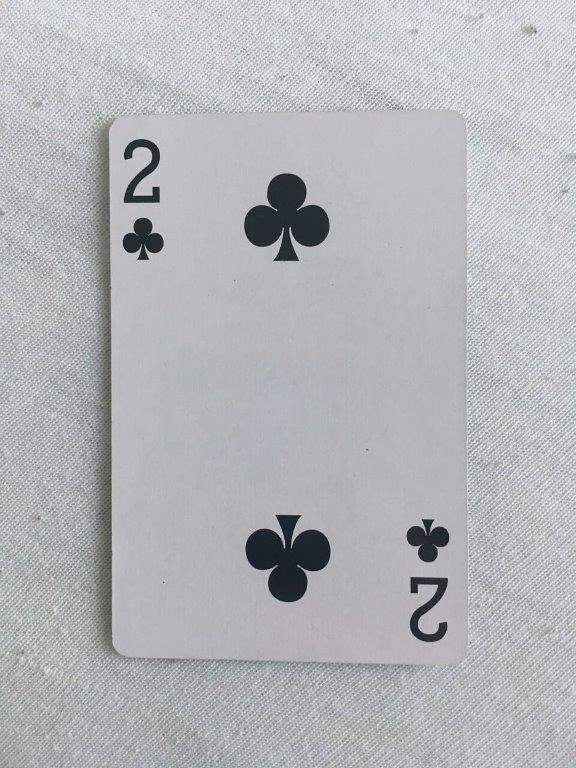2C: (105, 106, 472, 670)
